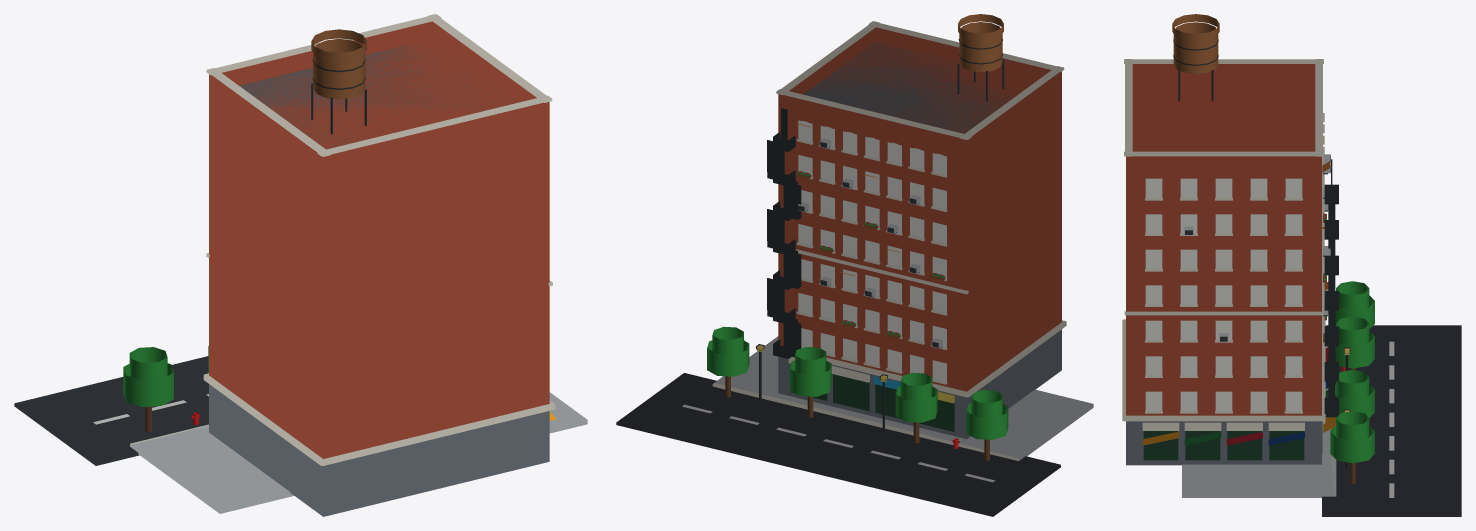
File: Urban_Building_Model.obj
3 views of the same model, side by side, from view 1: azimuth 30°, elevation 25°; view 2: azimuth 150°, elevation 25°; view 3: azimuth 270°, elevation 25° (orthographic). The views are drawn at different scales.
Parts seen in each view (by area): view 1: Group_Mat_RedBrick, Group_Mat_GroundBaseStone, Group_Mat_StreetAsphalt, Group_Mat_LimestoneTrim, Group_Mat_SidewalkPaver, Group_Mat_RoofGravel, Group_Mat_WaterTankWood, Group_Mat_TreeLeafGreen; view 2: Group_Mat_RedBrick, Group_Mat_StreetAsphalt, Group_Mat_WindowFrameWhite, Group_Mat_RoofGravel, Group_Mat_LimestoneTrim, Group_Mat_TreeLeafGreen, Group_Mat_SidewalkPaver, Group_Mat_FireEscapeBlack, Group_Mat_GroundBaseStone, Group_Mat_WaterTankWood, Group_Mat_StorefrontWood, Group_Mat_ACMetalBody (+2 smaller); view 3: Group_Mat_RedBrick, Group_Mat_StreetAsphalt, Group_Mat_WindowFrameWhite, Group_Mat_LimestoneTrim, Group_Mat_TreeLeafGreen, Group_Mat_SidewalkPaver, Group_Mat_GroundBaseStone, Group_Mat_StorefrontWood, Group_Mat_FireEscapeBlack, Group_Mat_WaterTankWood, Group_Mat_RoadMarking, Group_Mat_AwningAmber (+1 smaller).
Part boxes in pixels (<box>): Group_Mat_RedBrick: <box>209,21,549,458</box>; Group_Mat_GroundBaseStone: <box>209,384,549,516</box>; Group_Mat_StreetAsphalt: <box>14,356,208,465</box>; Group_Mat_LimestoneTrim: <box>130,14,555,465</box>; Group_Mat_SidewalkPaver: <box>130,392,587,513</box>; Group_Mat_RoofGravel: <box>239,43,508,148</box>; Group_Mat_WaterTankWood: <box>311,29,366,99</box>; Group_Mat_TreeLeafGreen: <box>123,346,208,406</box>; Group_Mat_RedBrick: <box>778,27,1061,391</box>; Group_Mat_StreetAsphalt: <box>616,373,1060,516</box>; Group_Mat_WindowFrameWhite: <box>798,120,946,382</box>; Group_Mat_RoofGravel: <box>803,42,1013,133</box>; Group_Mat_LimestoneTrim: <box>712,21,1066,461</box>; Group_Mat_TreeLeafGreen: <box>707,326,1008,439</box>; Group_Mat_SidewalkPaver: <box>714,336,1093,460</box>; Group_Mat_FireEscapeBlack: <box>767,39,1004,358</box>; Group_Mat_GroundBaseStone: <box>778,329,1061,439</box>; Group_Mat_WaterTankWood: <box>797,14,1003,338</box>; Group_Mat_StorefrontWood: <box>790,374,954,431</box>; Group_Mat_ACMetalBody: <box>798,138,942,348</box>; Group_Mat_RedBrick: <box>1126,64,1321,415</box>; Group_Mat_StreetAsphalt: <box>1322,325,1461,516</box>; Group_Mat_WindowFrameWhite: <box>1145,157,1322,410</box>; Group_Mat_LimestoneTrim: <box>1122,59,1336,496</box>; Group_Mat_TreeLeafGreen: <box>1330,281,1374,463</box>; Group_Mat_SidewalkPaver: <box>1182,346,1335,497</box>; Group_Mat_GroundBaseStone: <box>1126,421,1321,465</box>; Group_Mat_StorefrontWood: <box>1143,421,1322,460</box>; Group_Mat_FireEscapeBlack: <box>1173,39,1338,417</box>; Group_Mat_WaterTankWood: <box>1172,14,1326,342</box>; Group_Mat_RoadMarking: <box>1389,341,1394,497</box>; Group_Mat_AwningAmber: <box>1142,417,1336,445</box>.
Size of the model in its own units: 32 by 29.55 by 24.28.
